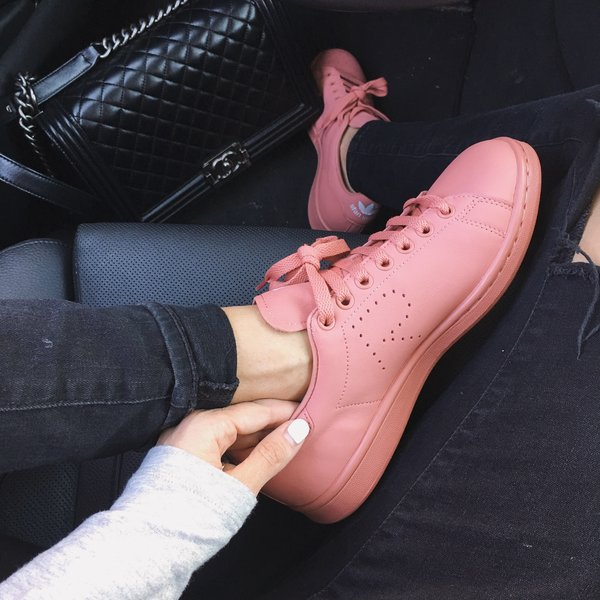bag: (11, 2, 324, 225)
shoes: (227, 36, 540, 528)
